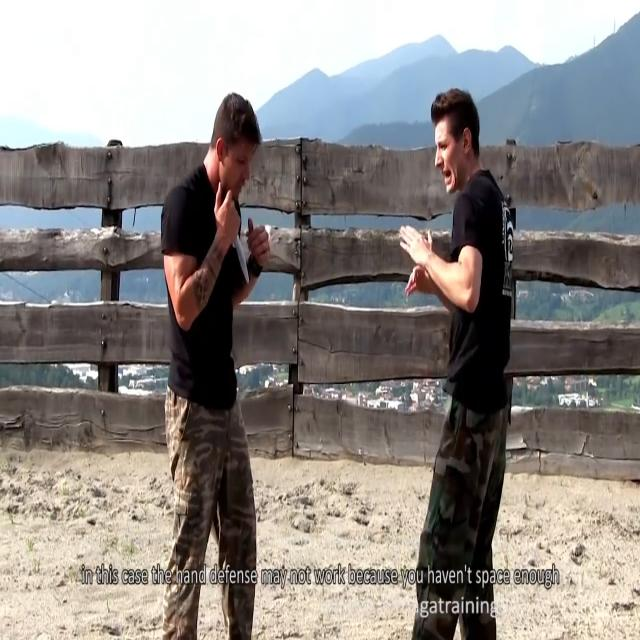knife: (235, 232, 253, 288)
